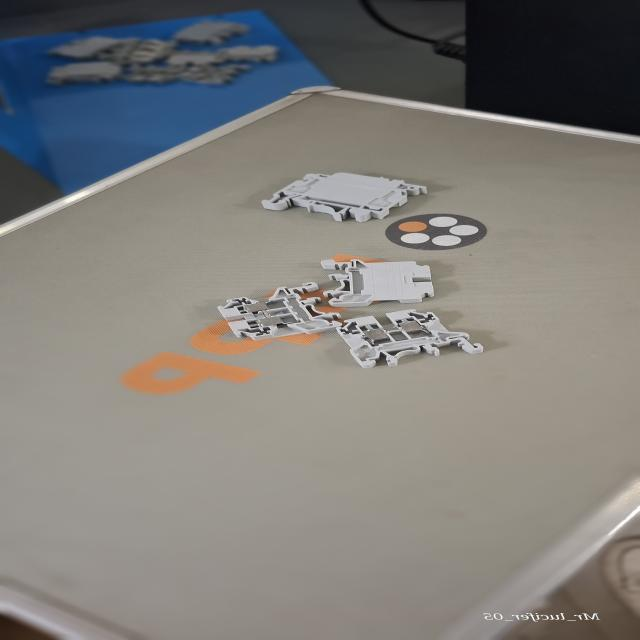Inverted: (311, 257, 438, 310)
Pass: (336, 306, 488, 372), (208, 280, 342, 344)
